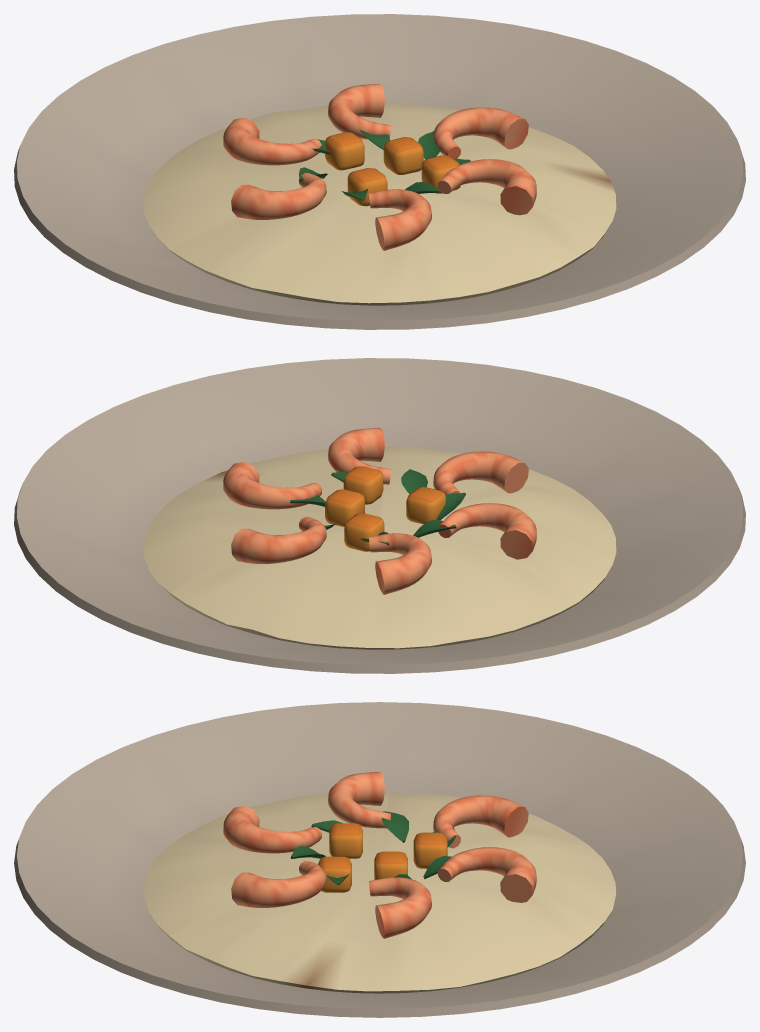
The model's file is dish-shrimp-bowl-lod0.glb.
3 views of the same model, one above another, from view 1: azimuth 30°, elevation 25°; view 2: azimuth 150°, elevation 25°; view 3: azimuth 270°, elevation 25° (orthographic).
Parts seen in each view (by area): view 1: shrimp-bowl.lod0__table warm glaze, shrimp-bowl.lod0__food, shrimp-bowl.lod0__food glaze; view 2: shrimp-bowl.lod0__table warm glaze, shrimp-bowl.lod0__food, shrimp-bowl.lod0__food glaze; view 3: shrimp-bowl.lod0__table warm glaze, shrimp-bowl.lod0__food, shrimp-bowl.lod0__food glaze.
Boxes of the visible parts, box(x1,y1,x2,y2) form: shrimp-bowl.lod0__table warm glaze: box(14, 14, 745, 329); shrimp-bowl.lod0__food: box(143, 102, 616, 305); shrimp-bowl.lod0__food glaze: box(223, 83, 536, 250); shrimp-bowl.lod0__table warm glaze: box(14, 358, 745, 673); shrimp-bowl.lod0__food: box(143, 446, 616, 649); shrimp-bowl.lod0__food glaze: box(223, 427, 536, 594); shrimp-bowl.lod0__table warm glaze: box(14, 702, 745, 1017); shrimp-bowl.lod0__food: box(143, 792, 616, 993); shrimp-bowl.lod0__food glaze: box(223, 772, 536, 938).
Bounding box in the file's own units: 0.26 × 0.0437 × 0.26.
